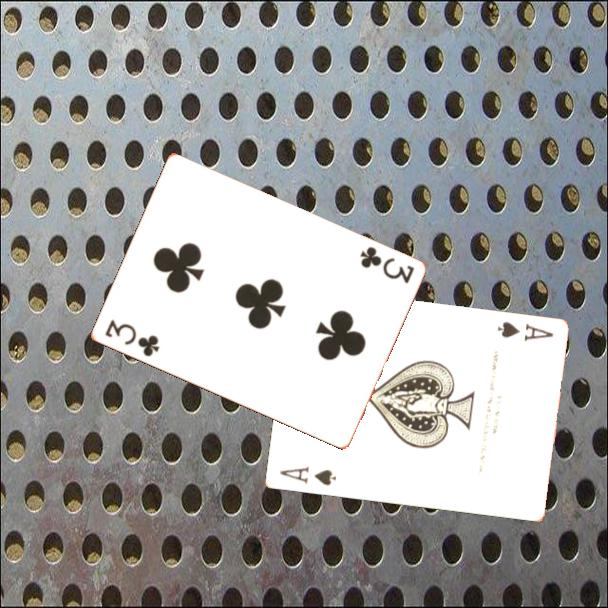c03: (101, 316, 162, 360), (356, 243, 417, 287)
s01: (494, 318, 556, 345), (276, 463, 339, 489)
